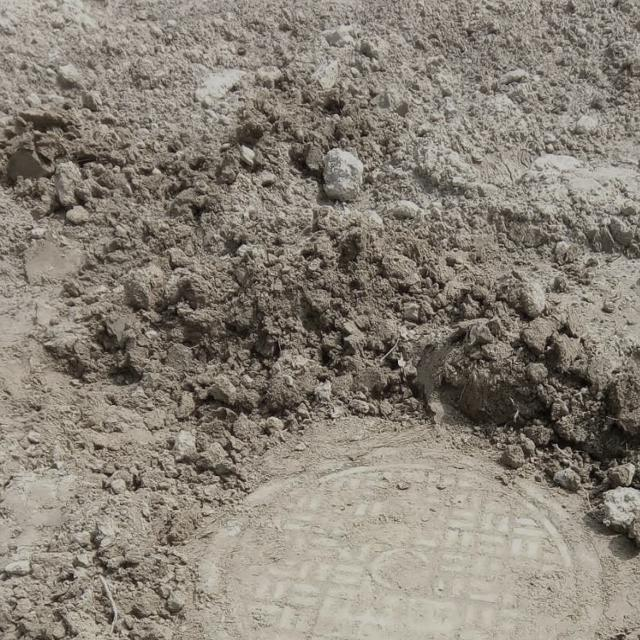good: (195, 447, 606, 640)
